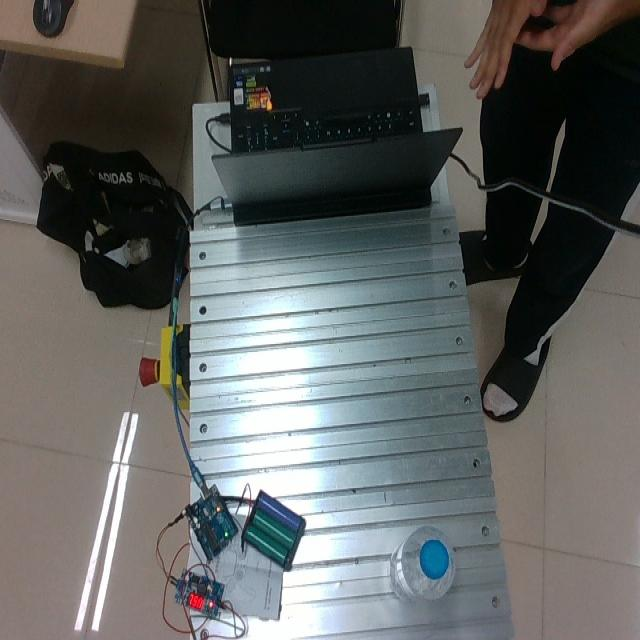lavie: (389, 524, 456, 605)
